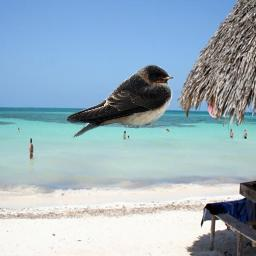Swallow: (66, 64, 175, 138)
